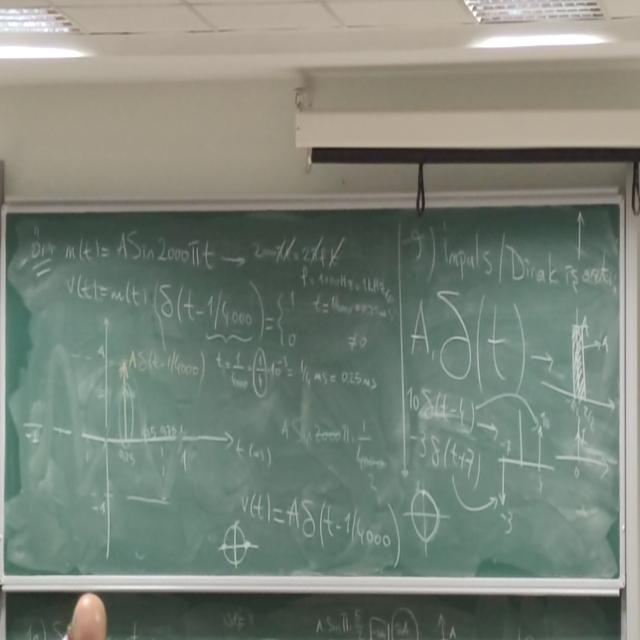image: (18, 309, 234, 550), (534, 294, 616, 426), (496, 398, 552, 522), (556, 412, 618, 489)
math: (411, 279, 525, 401), (62, 277, 262, 341), (236, 488, 397, 560), (210, 342, 384, 404), (58, 222, 221, 281), (406, 420, 486, 496), (299, 267, 396, 323), (251, 233, 345, 270)
text: (428, 218, 620, 300)
